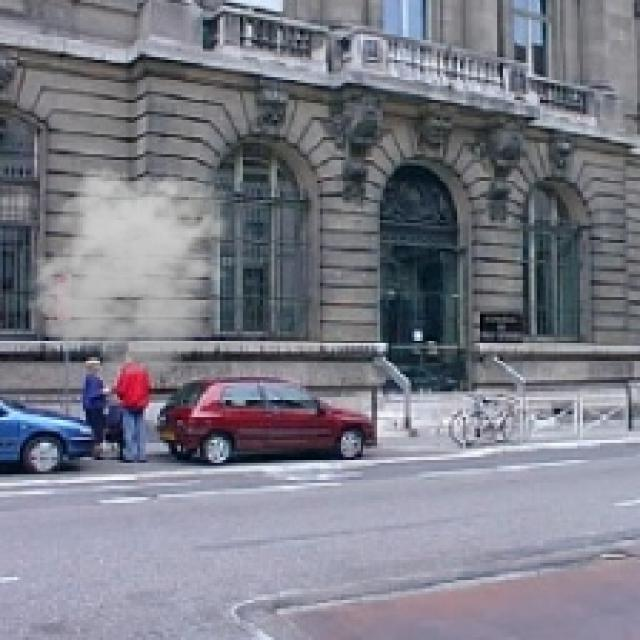smoke: (26, 160, 243, 377)
